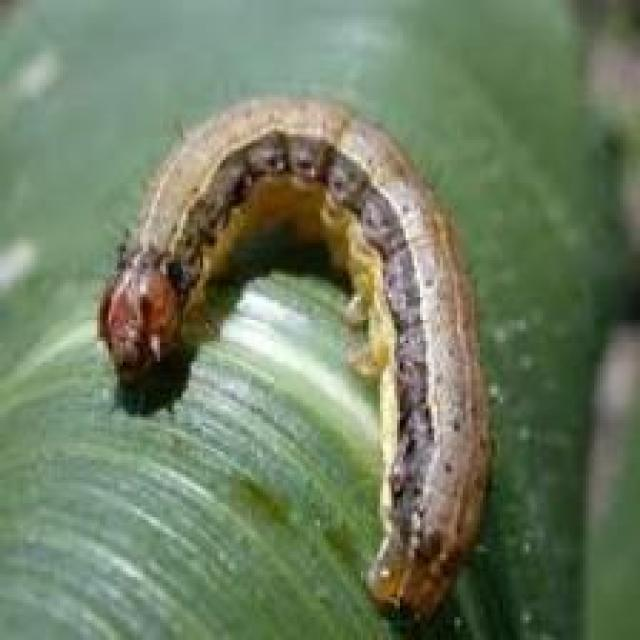Plaga: (108, 50, 525, 613)
